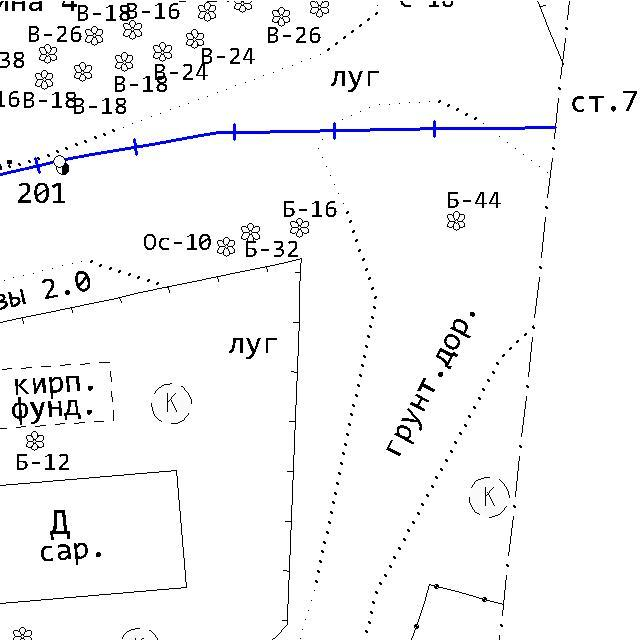bushes: (467, 475, 512, 520), (150, 381, 193, 426), (37, 42, 59, 65), (239, 221, 261, 244), (288, 216, 310, 239), (72, 61, 94, 83), (184, 28, 206, 50), (270, 6, 292, 28), (24, 430, 46, 452), (152, 41, 173, 64), (122, 19, 143, 41), (114, 51, 135, 73), (198, 0, 218, 23), (34, 69, 54, 91), (216, 236, 236, 258), (446, 210, 466, 232), (85, 24, 104, 46)
well: (52, 153, 68, 170)
